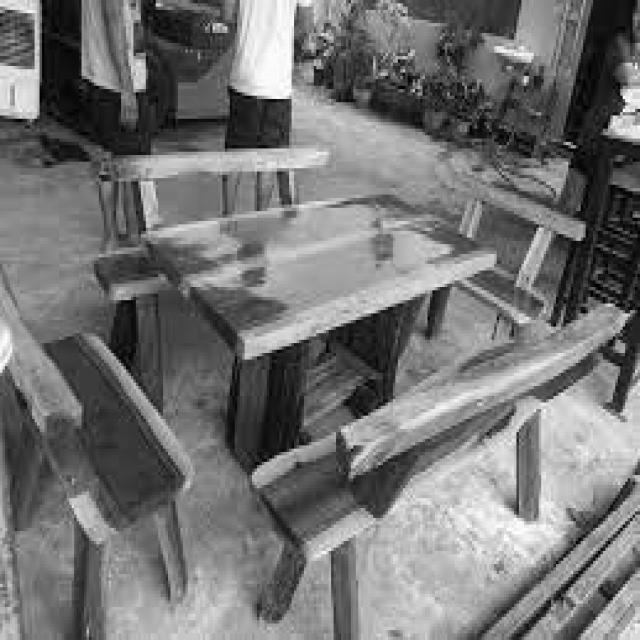table: (142, 175, 492, 372)
